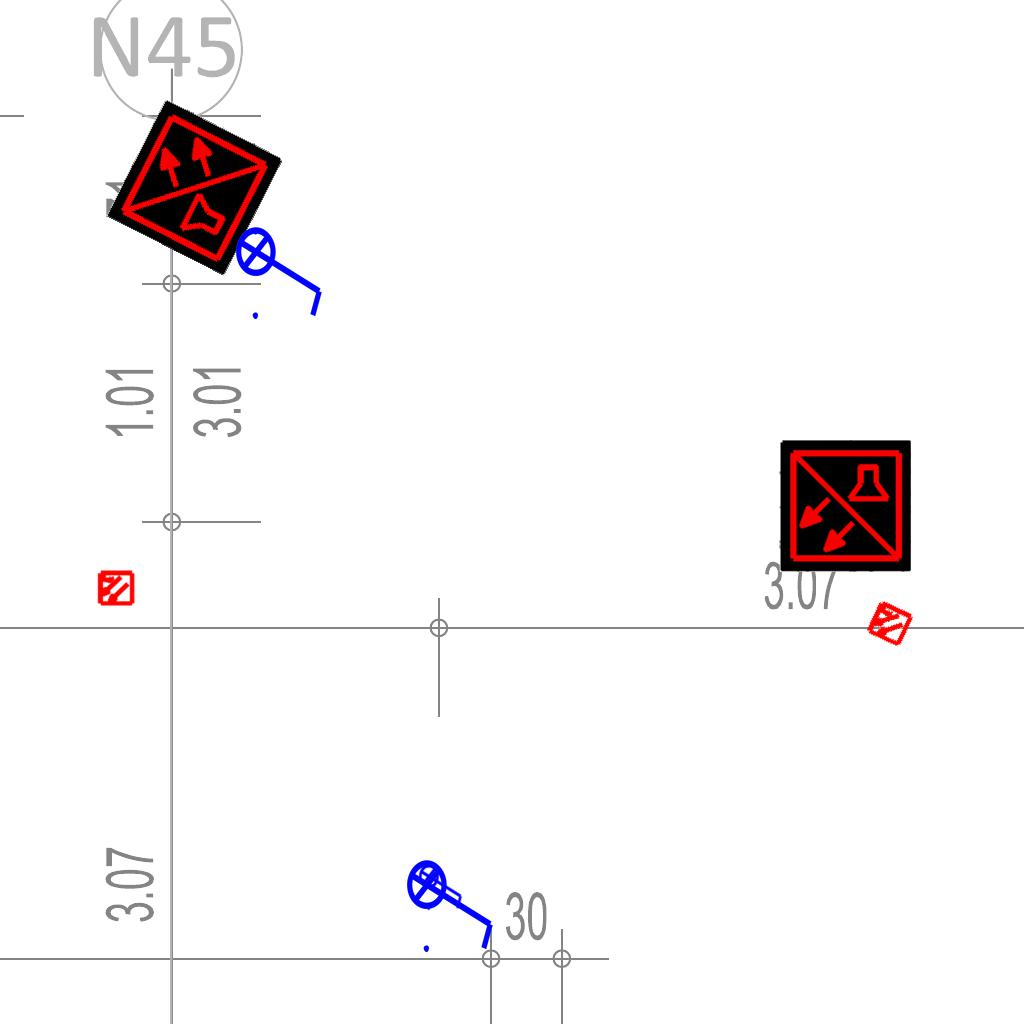Ausschalter_beleuchtet: (405, 846, 501, 958), (234, 213, 330, 325), (418, 857, 466, 913)
OKW_Multisensormelder_(Kombination_optischer_Rauch-Kahlenmonoxid_Waerme-Melder): (106, 98, 284, 276), (779, 440, 911, 572)
OT_Multisensormelder_(Kombination_RMO_WMD): (851, 585, 927, 661), (87, 560, 143, 616)
